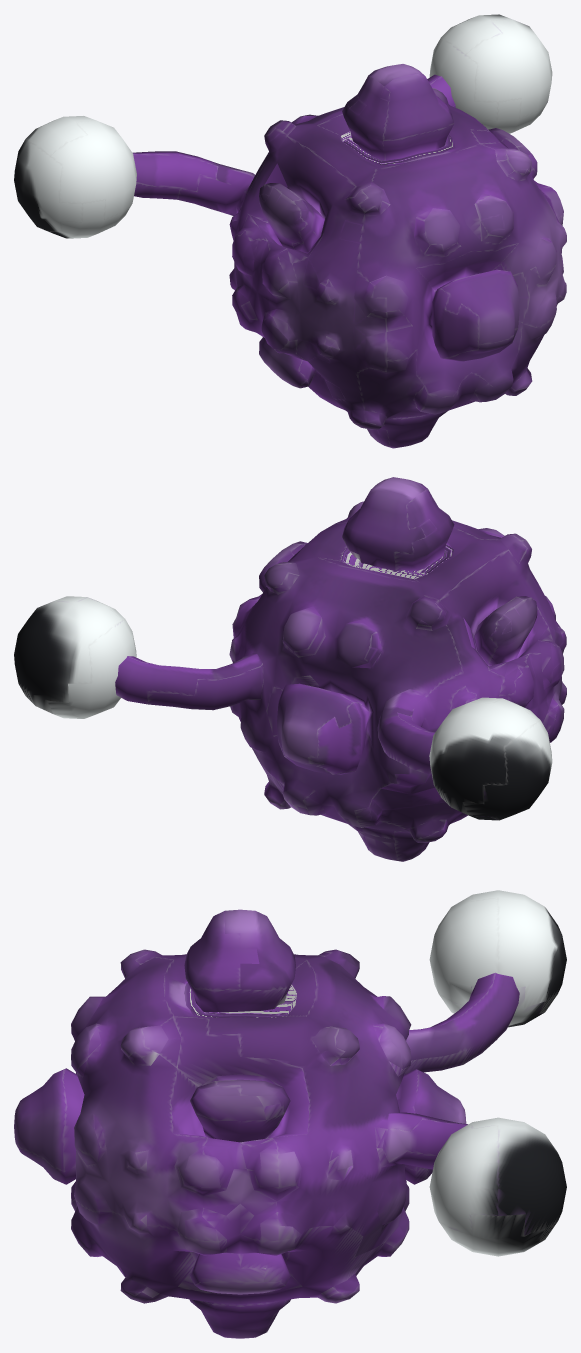
File: enemy2.fbx
The picture shows the model from 3 angles, top to bottom: view 1: azimuth 30°, elevation 25°; view 2: azimuth 150°, elevation 25°; view 3: azimuth 270°, elevation 25°; orthographic projection. The views are drawn at different scales.
Visible parts, largest first — view 1: enemy2.002, enemy2.003; view 2: enemy2.002, enemy2.003; view 3: enemy2.002, enemy2.003.
Part boxes in pixels (x1,y1,x2,y2): enemy2.002: (14,14,566,448); enemy2.003: (342,64,454,160); enemy2.002: (14,501,566,861); enemy2.003: (342,477,454,571); enemy2.002: (14,890,566,1338); enemy2.003: (184,909,295,1012).
Size of the model in its own units: 9.53 by 6.51 by 7.8.
